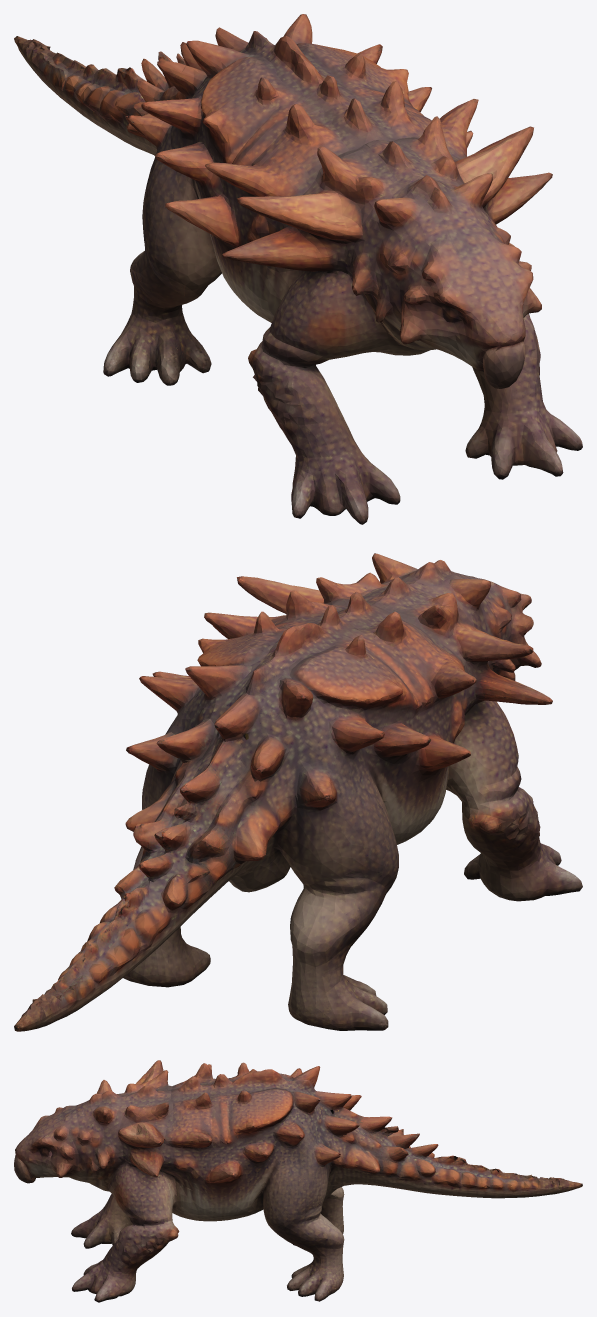
3 views of the same model, one above another, from view 1: azimuth 30°, elevation 25°; view 2: azimuth 150°, elevation 25°; view 3: azimuth 270°, elevation 25° (orthographic). The views are drawn at different scales.
Visible parts, largest first — view 1: world; view 2: world; view 3: world.
Part boxes in pixels (x1,y1,x2,y2): world: (14,14,582,524); world: (14,553,582,1031); world: (14,1060,582,1302).
Size of the model in its own units: 0.385 by 0.3778 by 1.
Materials: 1 (1 with a texture image).
